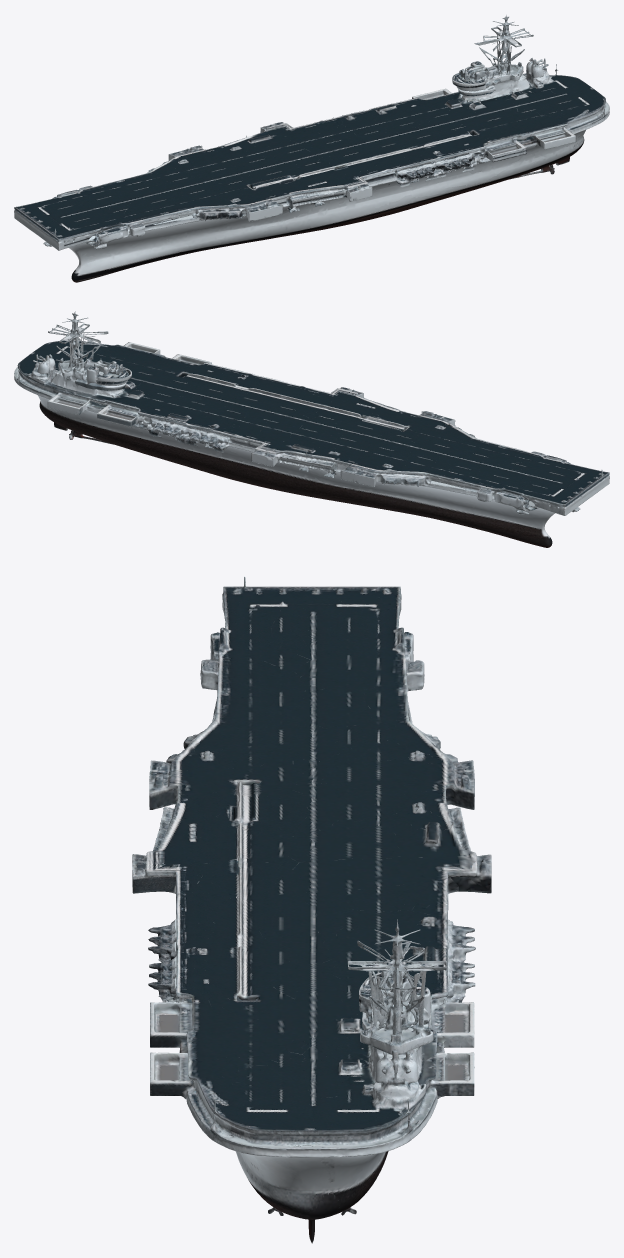
The model's file is queen_white.glb.
3 renders of one model, top to bottom at view 1: azimuth 30°, elevation 25°; view 2: azimuth 150°, elevation 25°; view 3: azimuth 270°, elevation 25°, orthographic. The views are drawn at different scales.
Parts seen in each view (by area): view 1: mesh_node; view 2: mesh_node; view 3: mesh_node.
Boxes of the visible parts, x1=… form: mesh_node: x1=14, y1=15, x2=609, y2=282; mesh_node: x1=14, y1=311, x2=609, y2=547; mesh_node: x1=132, y1=576, x2=491, y2=1243.
Size of the model in its own units: 1.9 by 0.4597 by 0.5265.
Materials: 1 (1 with a texture image).
